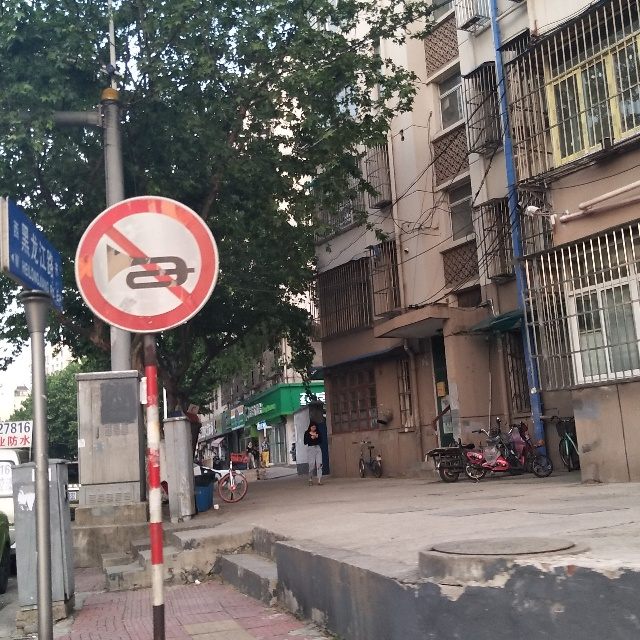nohonk: (75, 194, 217, 333)
